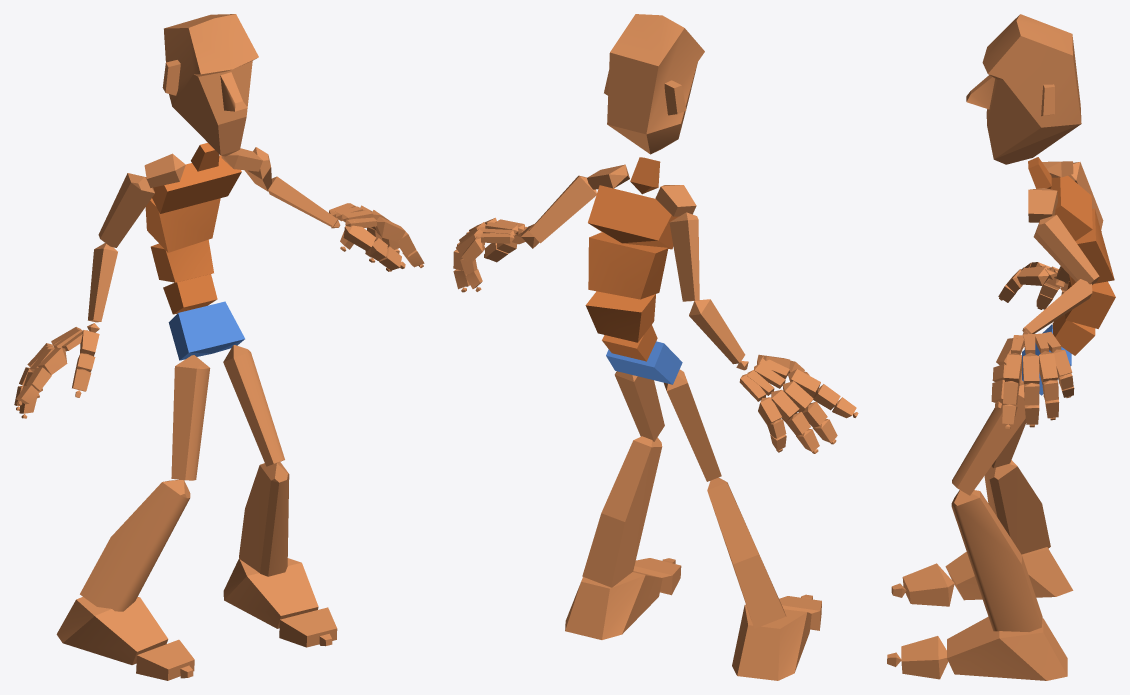
Rendered from prueba176.obj.
3 views of the same model, side by side, from view 1: azimuth 30°, elevation 25°; view 2: azimuth 150°, elevation 25°; view 3: azimuth 270°, elevation 25° (orthographic). The views are drawn at different scales.
Parts seen in each view (by area): view 1: BOPED_Head, BOPED_R_leg, BOPED_R_foot, BOPED_L_leg, BOPED_R_foot01, BOPED_R_legup, BOPED_L_legup, Bone01, Bone04, Bone05, BOPED_R_arm_upper, Bone03 (+7 smaller); view 2: BOPED_Head, BOPED_L_leg, BOPED_R_foot01, BOPED_R_leg, BOPED_R_foot, Bone04, Bone05, Bone03, BOPED_R_legup, BOPED_R_arm_upper, BOPED_L_legup, BOPED_L_arm_upper (+8 smaller); view 3: BOPED_Head, BOPED_L_leg, BOPED_R_foot01, BOPED_R_leg, BOPED_L_legup, BOPED_R_foot, BOPED_L_arm_upper, Bone05, BOPED_R_foot_toe01, BOPED_R_foot_toe04, Bone03, BOPED_L_arm_fore (+14 smaller).
Boxes of the visible parts, bbox=[...] form: BOPED_Head: bbox=[162, 14, 258, 156]; BOPED_R_leg: bbox=[80, 479, 190, 611]; BOPED_R_foot: bbox=[56, 597, 168, 664]; BOPED_L_leg: bbox=[239, 462, 289, 576]; BOPED_R_foot01: bbox=[223, 558, 318, 628]; BOPED_R_legup: bbox=[171, 355, 210, 480]; BOPED_L_legup: bbox=[223, 345, 284, 466]; Bone01: bbox=[168, 301, 244, 360]; Bone04: bbox=[145, 198, 220, 252]; Bone05: bbox=[152, 155, 241, 213]; BOPED_R_arm_upper: bbox=[98, 173, 154, 247]; Bone03: bbox=[150, 239, 213, 282]; BOPED_Head: bbox=[604, 14, 704, 154]; BOPED_L_leg: bbox=[582, 436, 662, 587]; BOPED_R_foot01: bbox=[565, 571, 662, 639]; BOPED_R_leg: bbox=[707, 477, 786, 628]; BOPED_R_foot: bbox=[732, 604, 811, 680]; Bone04: bbox=[588, 232, 668, 299]; Bone05: bbox=[588, 185, 678, 249]; Bone03: bbox=[585, 291, 655, 342]; BOPED_R_legup: bbox=[664, 369, 721, 481]; BOPED_R_arm_upper: bbox=[669, 212, 699, 301]; BOPED_L_legup: bbox=[614, 371, 664, 441]; BOPED_L_arm_upper: bbox=[528, 175, 596, 243]; BOPED_Head: bbox=[966, 14, 1081, 164]; BOPED_L_leg: bbox=[951, 490, 1042, 631]; BOPED_R_foot01: bbox=[947, 616, 1067, 680]; BOPED_R_leg: bbox=[984, 460, 1050, 554]; BOPED_L_legup: bbox=[952, 382, 1025, 495]; BOPED_R_foot: bbox=[945, 547, 1073, 600]; BOPED_L_arm_upper: bbox=[1033, 215, 1099, 284]; Bone05: bbox=[1050, 175, 1092, 240]; BOPED_R_foot_toe01: bbox=[902, 563, 954, 606]; BOPED_R_foot_toe04: bbox=[901, 636, 948, 679]; Bone03: bbox=[1065, 279, 1115, 328]; BOPED_L_arm_fore: bbox=[1022, 279, 1092, 333].
Size of the model in its own units: 130 by 187 by 62.49.
